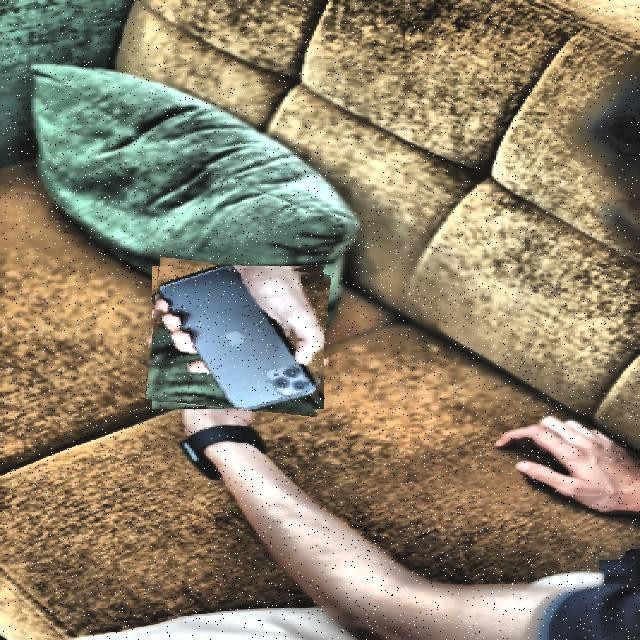Phone: (148, 261, 328, 414)
